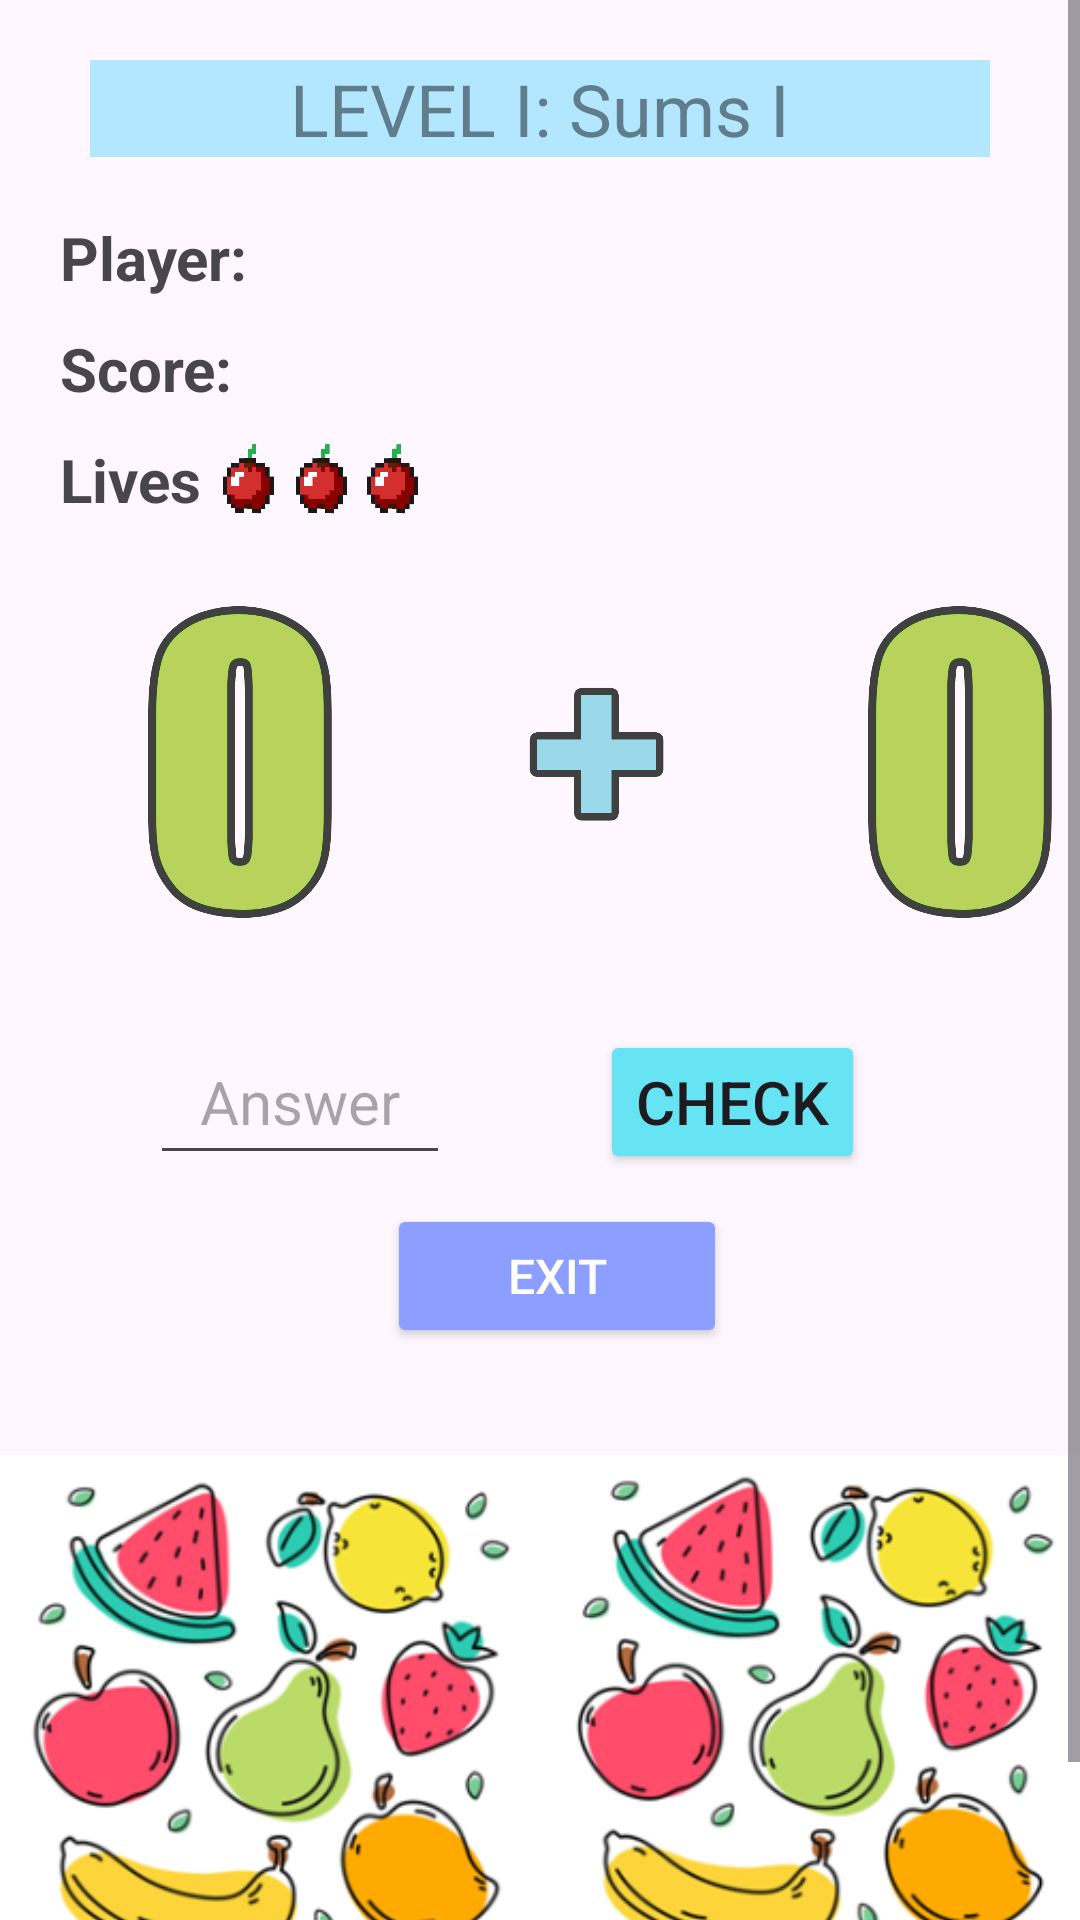

Named icons in this screenshot (1080px×1920px) and their centers, point (x, y):
suma: point (596, 754)
tresvidas: point (320, 479)
